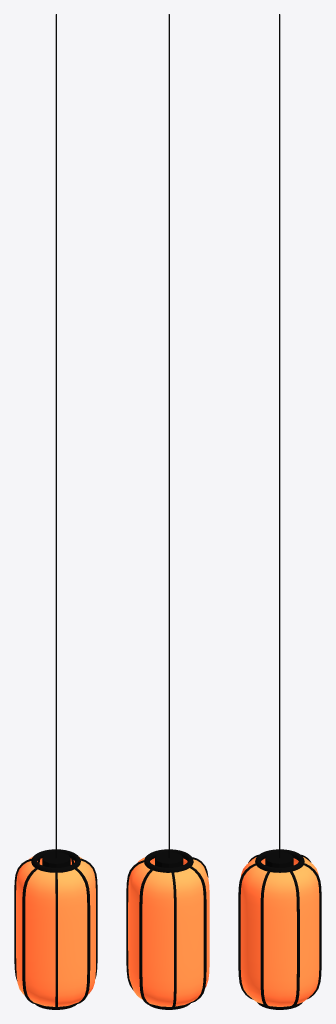
The picture shows the model from 3 angles, left to right: view 1: azimuth 90°, elevation 25°; view 2: azimuth 150°, elevation 25°; view 3: azimuth 270°, elevation 25°; orthographic projection.
Visible parts, largest first — view 1: ST-灯笼; view 2: ST-灯笼; view 3: ST-灯笼.
Boxes of the visible parts, box(x1,y1,x2,y2) form: ST-灯笼: box(14, 14, 97, 1009); ST-灯笼: box(126, 14, 209, 1009); ST-灯笼: box(238, 14, 321, 1009).
Size of the model in its own units: 0.224 by 0.2238 by 2.92.
